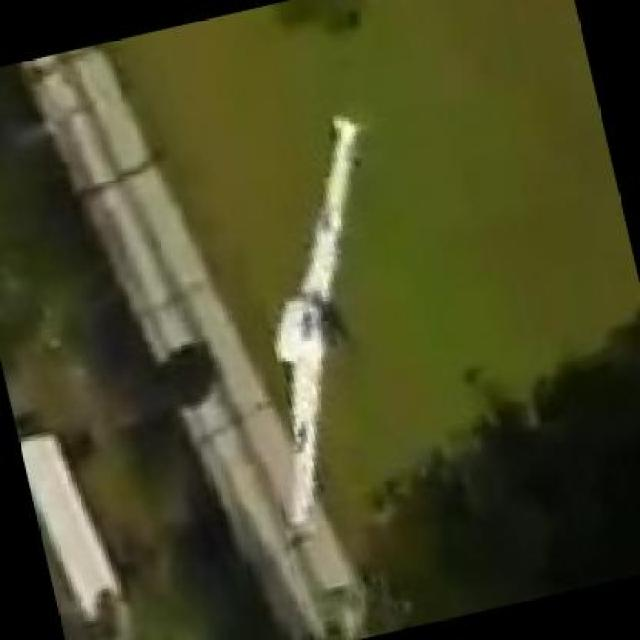iha: (297, 101, 336, 540)
